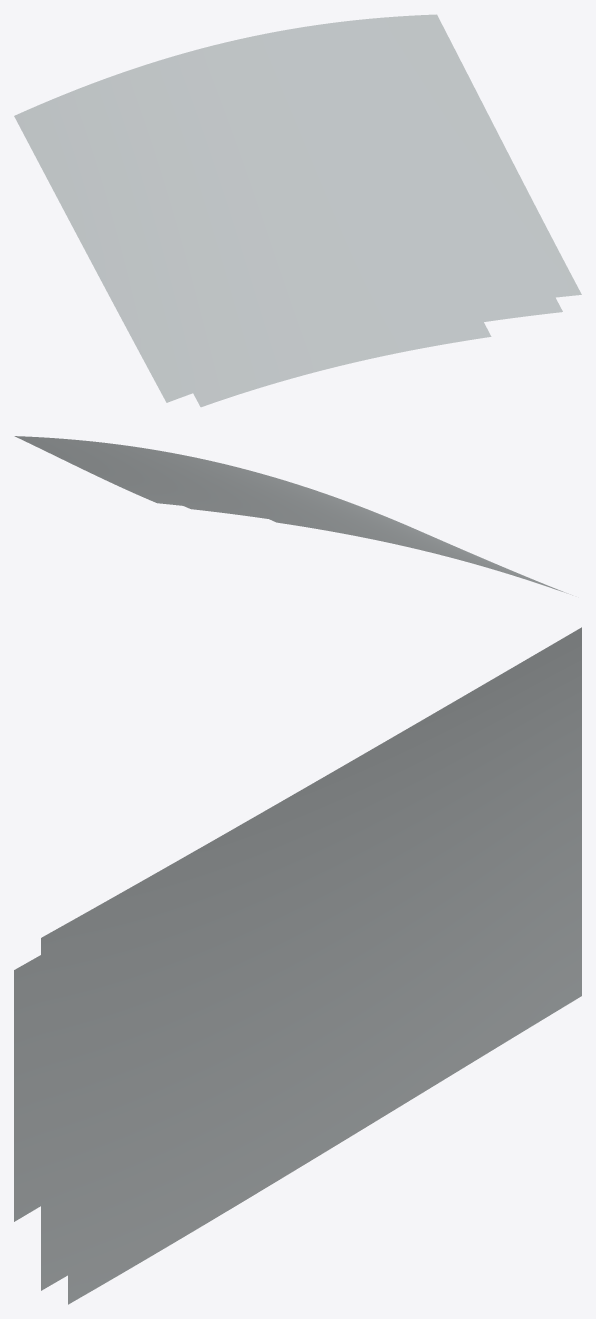
The model's file is alpine-8-9.glb.
The picture shows the model from 3 angles, top to bottom: view 1: azimuth 30°, elevation 25°; view 2: azimuth 150°, elevation 25°; view 3: azimuth 270°, elevation 25°; orthographic projection. The views are drawn at different scales.
Parts seen in each view (by area): view 1: alpine-8-9; view 2: alpine-8-9; view 3: alpine-8-9.
Part boxes in pixels (box(x1,y1,x2,y2)): alpine-8-9: box(14, 14, 581, 407); alpine-8-9: box(14, 436, 572, 595); alpine-8-9: box(14, 627, 581, 1304).
Bounding box in the file's own units: 256 × 117 × 168.
1 material, 1 textured.
